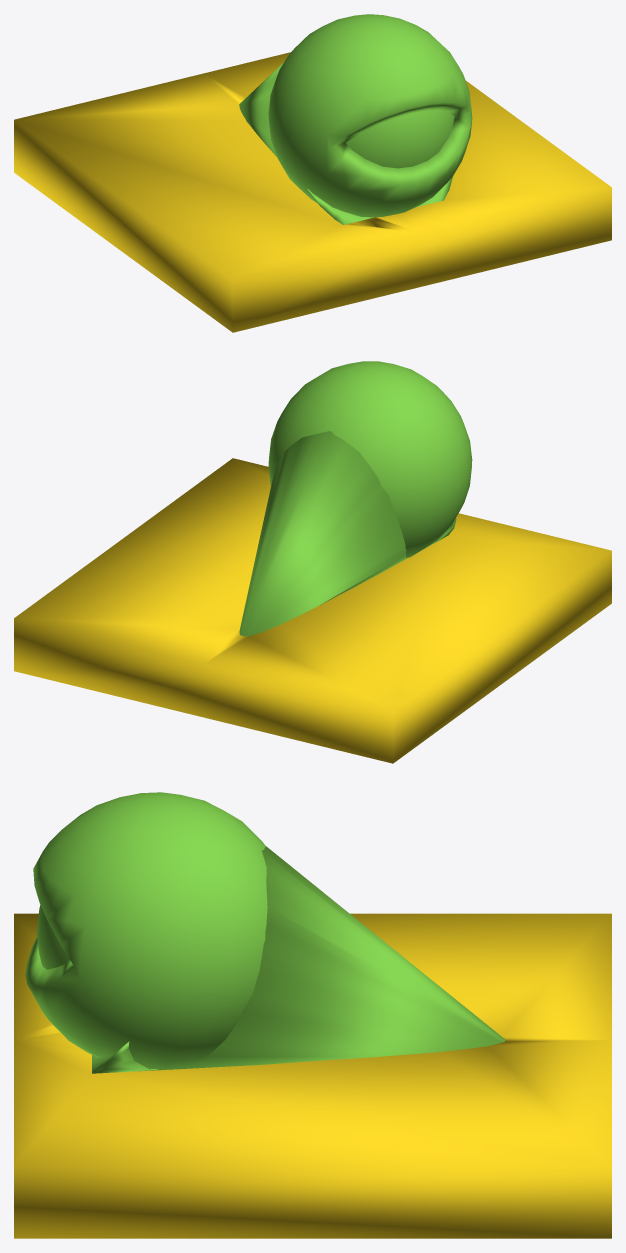
File: baby_1.glb
3 views of the same model, one above another, from view 1: azimuth 30°, elevation 25°; view 2: azimuth 150°, elevation 25°; view 3: azimuth 270°, elevation 25° (orthographic). The views are drawn at different scales.
Parts seen in each view (by area): view 1: basetta, figura; view 2: basetta, figura; view 3: basetta, figura.
Boxes of the visible parts, <box> form: basetta: <box>14,52,611,332</box>; figura: <box>239,14,472,224</box>; basetta: <box>14,458,611,763</box>; figura: <box>239,361,472,636</box>; basetta: <box>14,913,611,1238</box>; figura: <box>25,792,505,1073</box>.
Bounding box in the file's own units: 0.015 × 0.0085 × 0.015.
